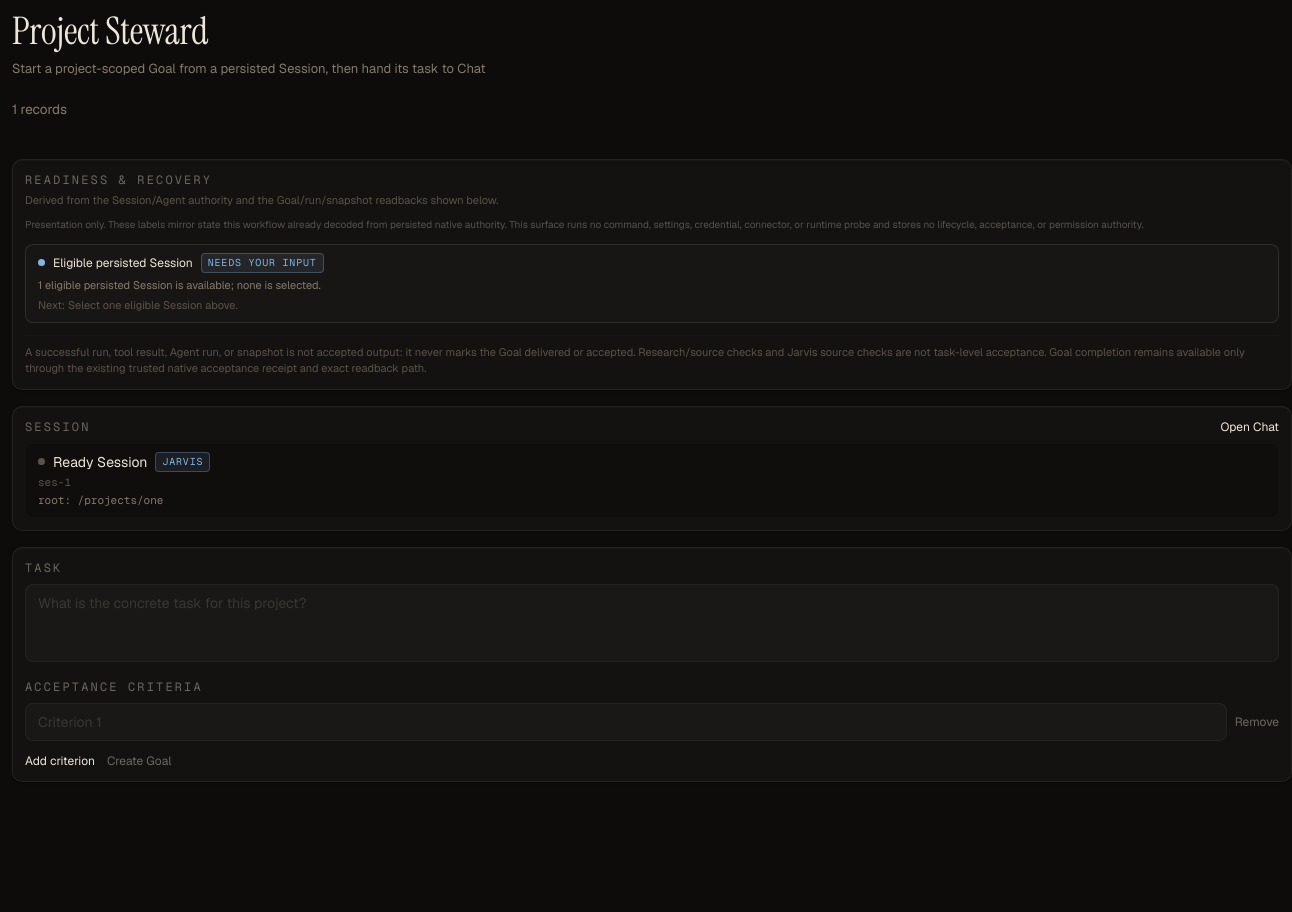
Project Steward eligibility predicates › keeps Create Goal disabled until an objective and a criterion exist
This screenshot has width=1292, height=912.
Expected: the button "Create Goal" is disabled, x1=107 y1=753 x2=172 y2=769
Step 1. Type "Do the work" into the text box named "Project Steward task" → (652, 623), box x1=25 y1=584 x2=1279 y2=662
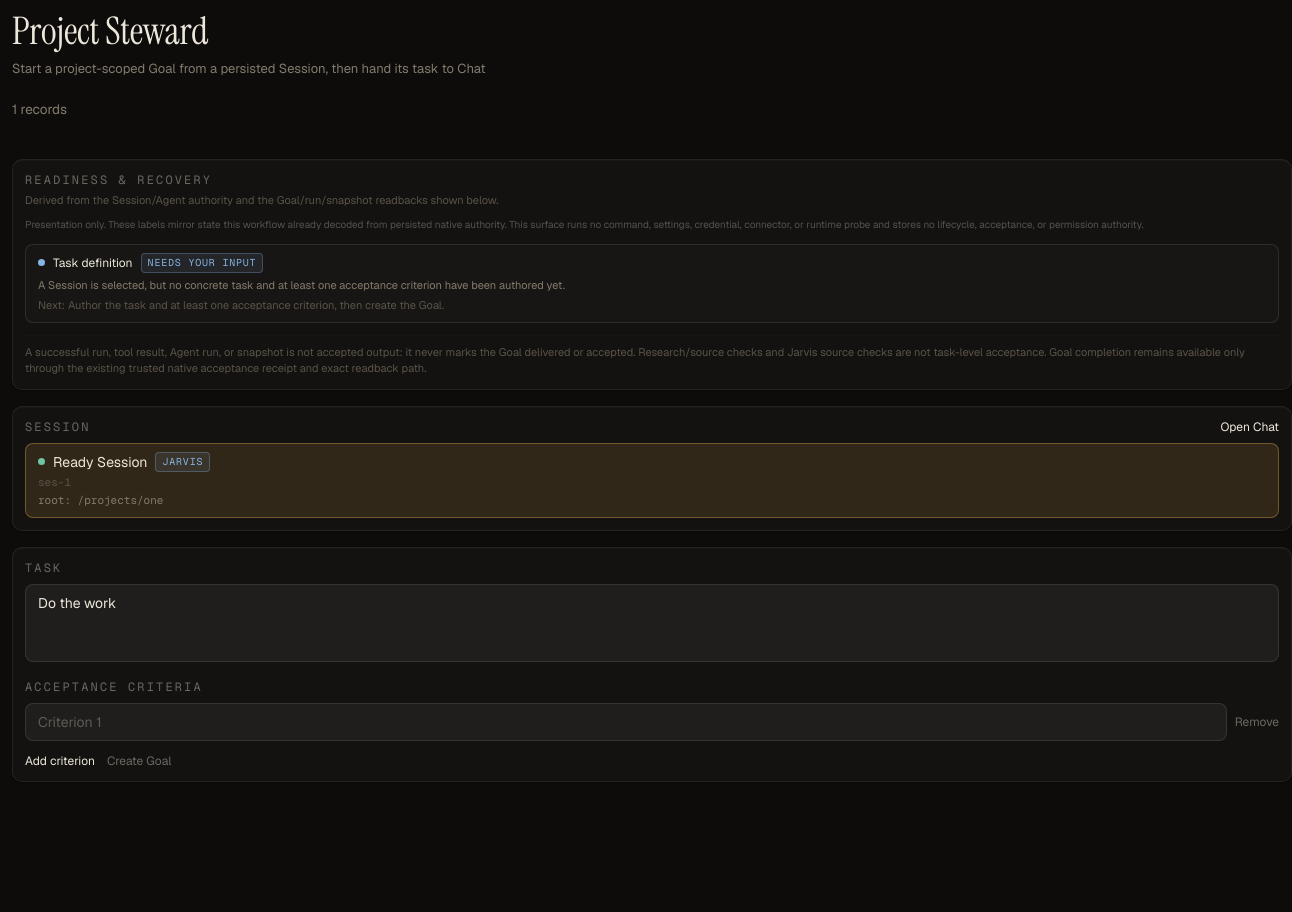
Expected: the button "Create Goal" is disabled, x1=107 y1=753 x2=172 y2=769
Step 2. Type "Tests pass" into the field named "Acceptance criterion 1" → (626, 722), box x1=25 y1=703 x2=1227 y2=741
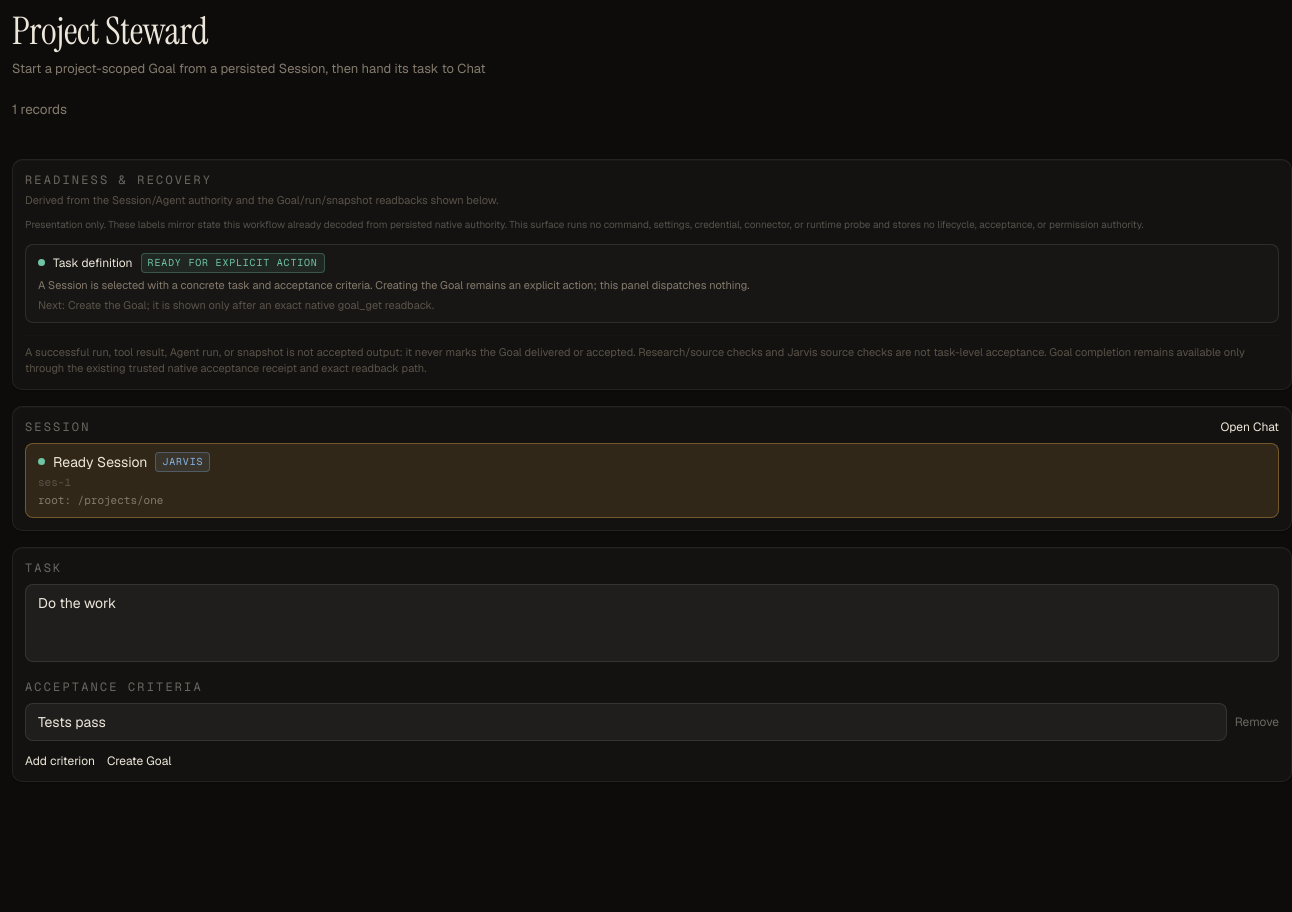
Expected: the button "Create Goal" is enabled, x1=107 y1=753 x2=172 y2=769
